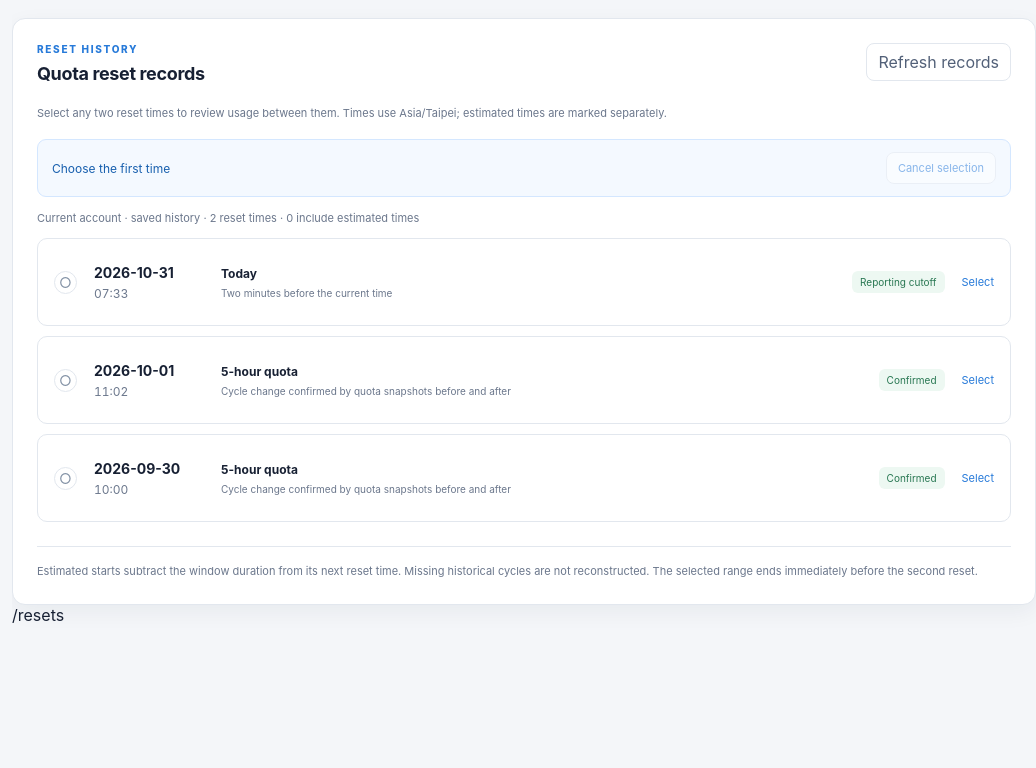
Scenario: quota controls › uses exact reset instants and configured-zone local fields for the overview range
The width and height of the screenshot is (1036, 768).
Click the button with aria-label "Select time, 2026-10-01 11:02,".
click(134, 370)  # box [37,336,1011,424]
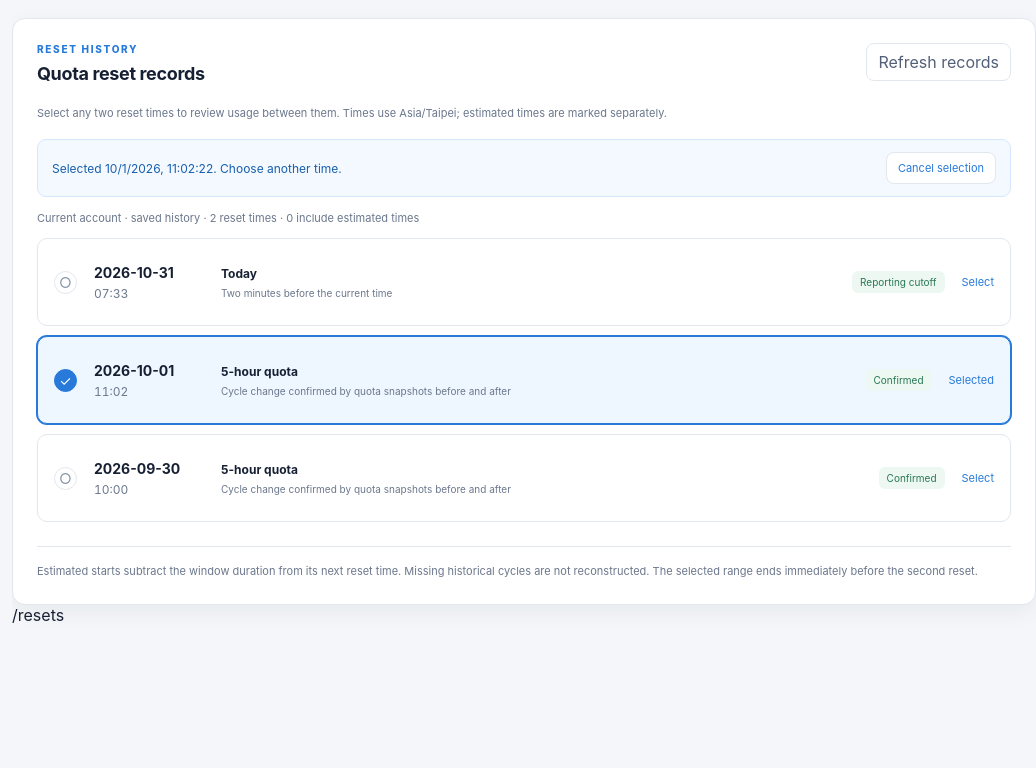
Click the button with aria-label "Select time, 2026-09-30 10:00,".
click(137, 468)  # box [37,434,1011,522]
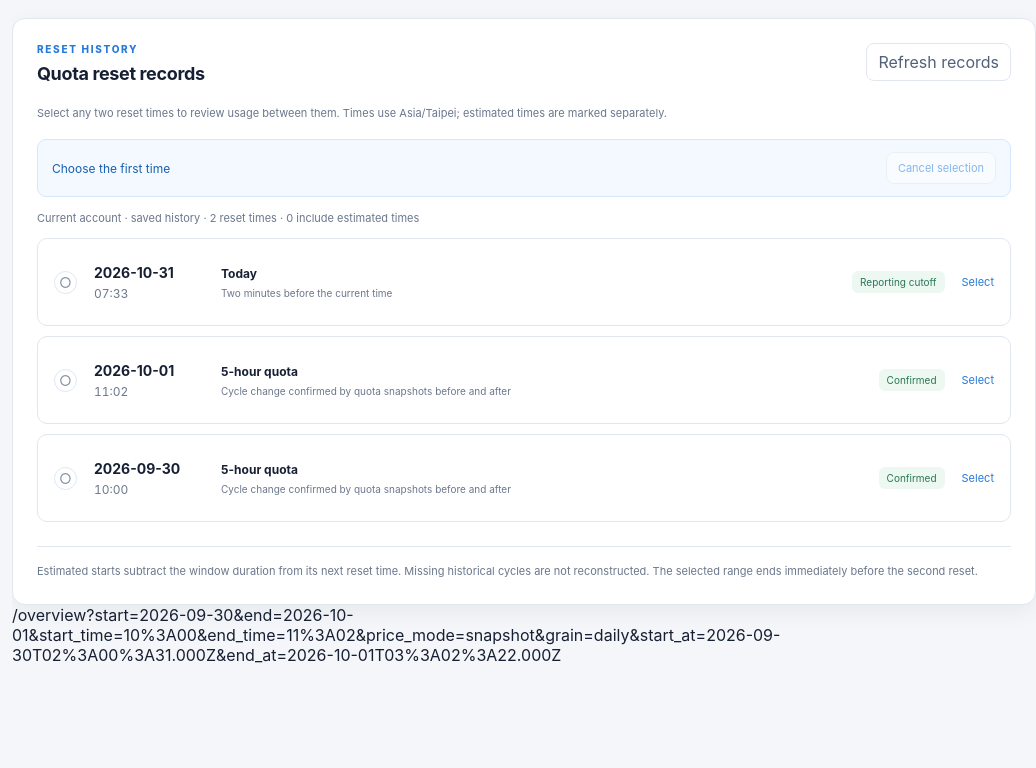
Now the text with test id "location" shows "/overview?", box [12,605,780,665]
